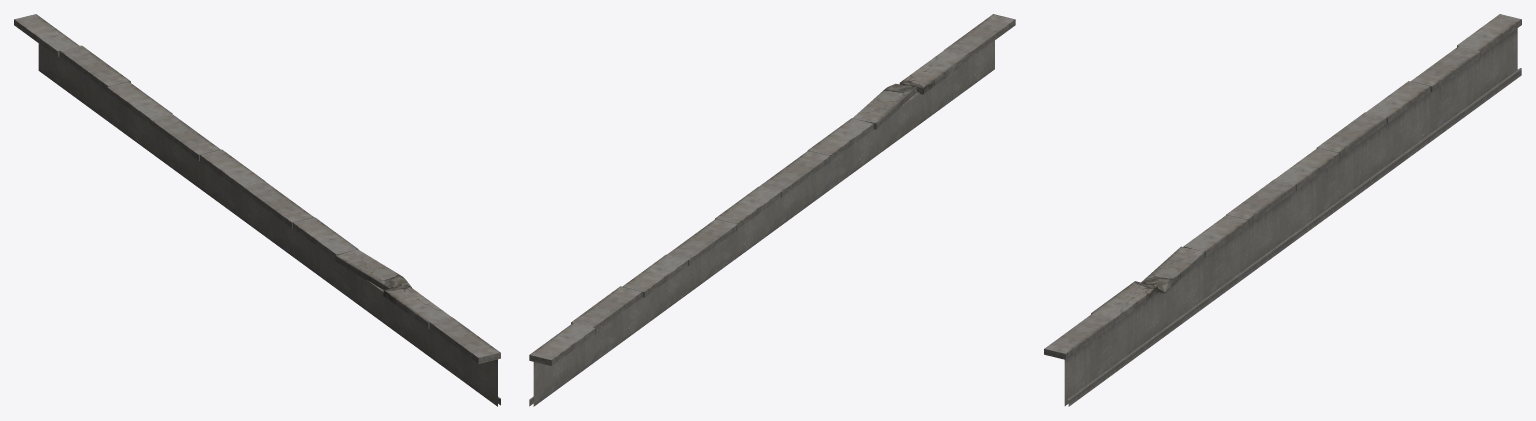
The model's file is Cemetery_STR_GraveBase_01.fbx.
The picture shows the model from 3 angles, left to right: view 1: azimuth 30°, elevation 25°; view 2: azimuth 150°, elevation 25°; view 3: azimuth 330°, elevation 25°; orthographic projection.
Visible parts, largest first — view 1: Cemetery_STR_GraveBase_01; view 2: Cemetery_STR_GraveBase_01; view 3: Cemetery_STR_GraveBase_01.
Boxes of the visible parts, x1=… form: Cemetery_STR_GraveBase_01: x1=14, y1=14, x2=500, y2=406; Cemetery_STR_GraveBase_01: x1=529, y1=14, x2=1015, y2=406; Cemetery_STR_GraveBase_01: x1=1044, y1=14, x2=1521, y2=406.
Size of the model in its own units: 32.25 by 55.25 by 858.
Materials: 1 (1 with a texture image).
